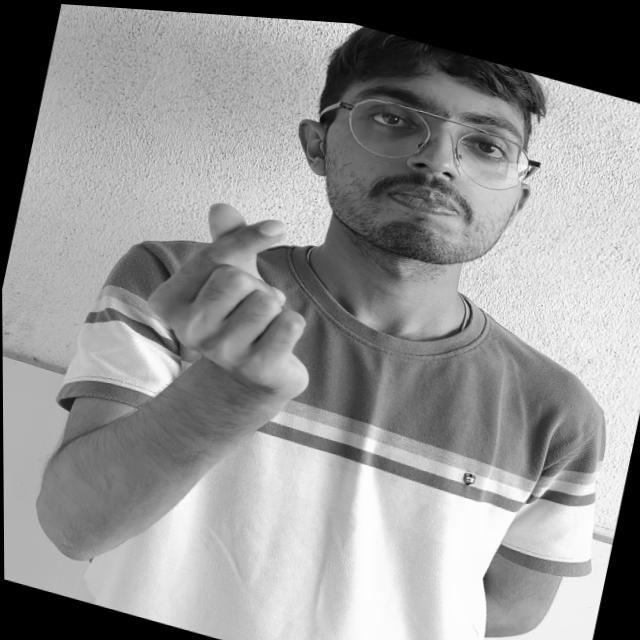Grattitude: (111, 169, 357, 424)
